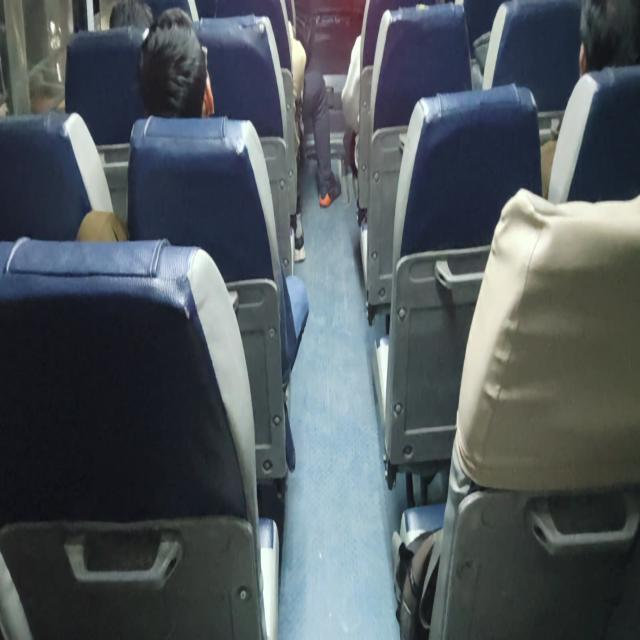person: (150, 18, 227, 108), (576, 0, 640, 80), (111, 0, 160, 47)
